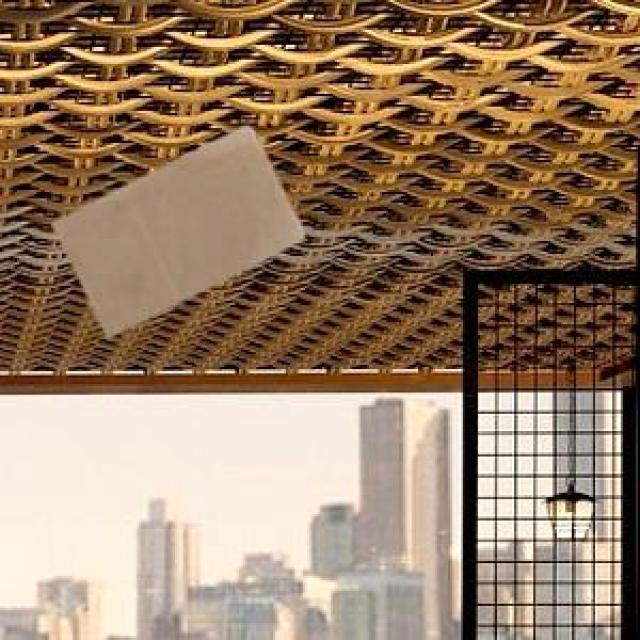Paper_Bag: (50, 123, 300, 334)
